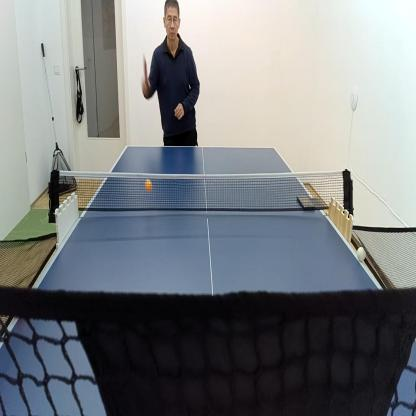Ball: (356, 245, 367, 263), (144, 178, 152, 193)
